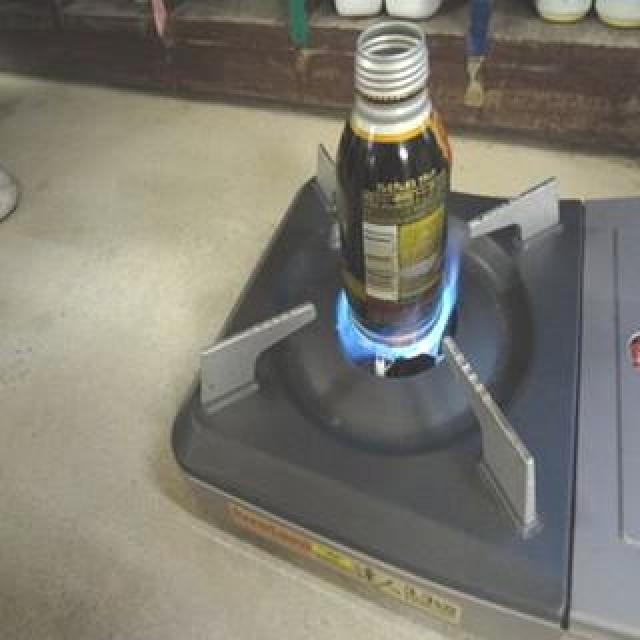Can: (334, 19, 460, 341)
